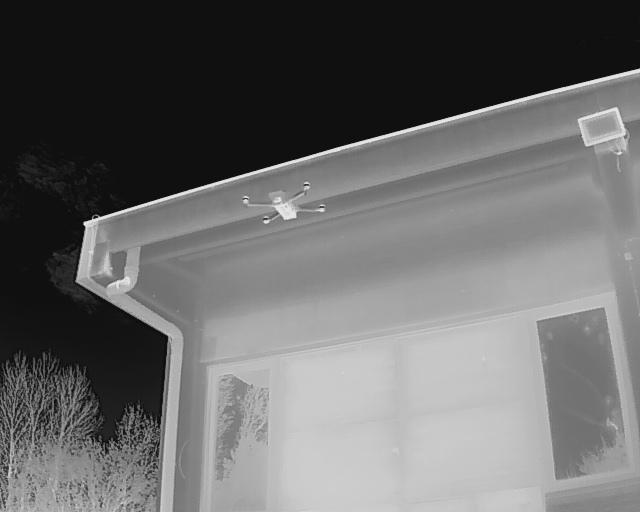drone: (236, 178, 328, 233)
